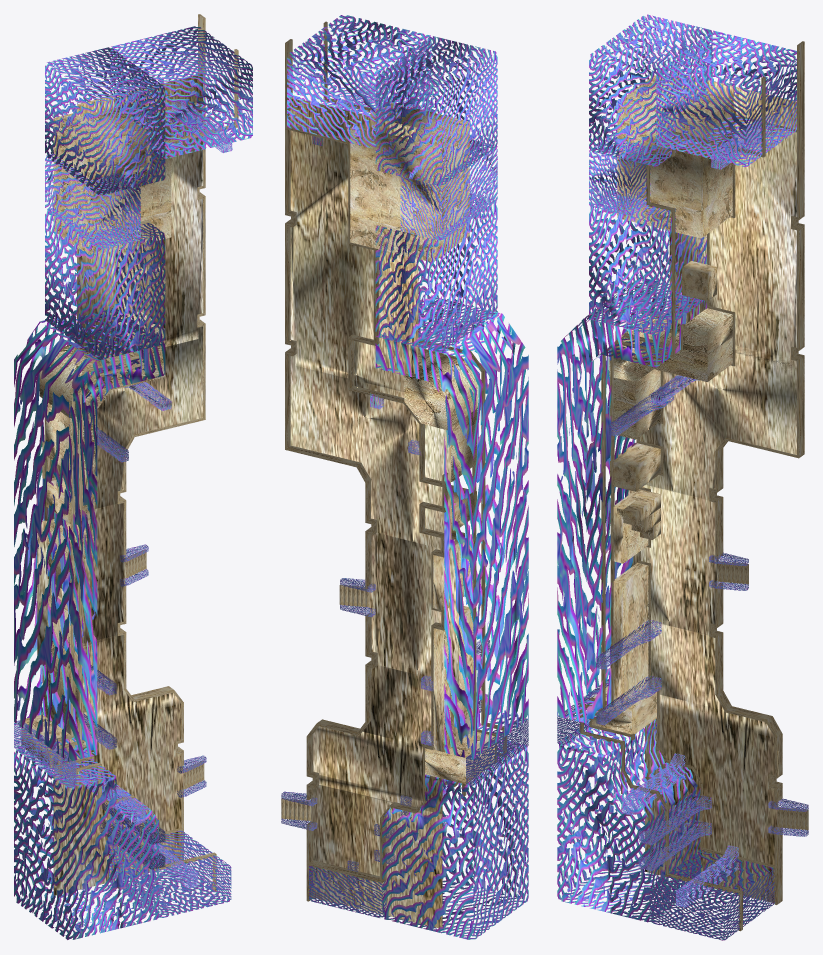
Rendered from Map.obj.
3 views of the same model, side by side, from view 1: azimuth 30°, elevation 25°; view 2: azimuth 150°, elevation 25°; view 3: azimuth 330°, elevation 25° (orthographic). The views are drawn at different scales.
Parts seen in each view (by area): view 1: Rectangle11, Box06, Rectangle08, Rectangle25, Rectangle33, Line22, Rectangle31, Rectangle30, Line10, Line09, Box05, Rectangle32 (+18 smaller); view 2: Rectangle11, Line22, Rectangle08, Box06, Line10, Rectangle30, Rectangle33, Rectangle25, Rectangle31, Line09, Rectangle32, Line04 (+11 smaller); view 3: Rectangle11, Line22, Rectangle08, Box06, Line10, Rectangle31, Rectangle30, Rectangle33, Rectangle25, Line09, Box05, Line04 (+30 smaller).
Part boxes in pixels (bbox=[...]): Rectangle11: bbox=[14, 308, 165, 761]; Box06: bbox=[14, 746, 158, 939]; Rectangle08: bbox=[53, 692, 183, 895]; Rectangle25: bbox=[45, 209, 165, 359]; Rectangle33: bbox=[45, 47, 165, 195]; Line22: bbox=[77, 74, 202, 346]; Rectangle31: bbox=[110, 26, 252, 158]; Rectangle30: bbox=[53, 102, 171, 255]; Line10: bbox=[44, 326, 202, 520]; Line09: bbox=[37, 503, 125, 655]; Box05: bbox=[109, 830, 231, 917]; Rectangle32: bbox=[45, 154, 140, 249]; Rectangle11: bbox=[375, 296, 528, 759]; Line22: bbox=[290, 97, 418, 391]; Rectangle08: bbox=[311, 726, 442, 928]; Box06: bbox=[382, 738, 528, 939]; Line10: bbox=[290, 355, 451, 550]; Rectangle30: bbox=[350, 102, 469, 261]; Rectangle33: bbox=[375, 36, 497, 185]; Rectangle25: bbox=[375, 194, 497, 352]; Rectangle31: bbox=[287, 15, 431, 148]; Line09: bbox=[369, 532, 458, 685]; Rectangle32: bbox=[400, 140, 497, 240]; Line04: bbox=[363, 665, 431, 746]; Rectangle11: bbox=[557, 277, 706, 723]; Line22: bbox=[669, 72, 796, 371]; Rectangle08: bbox=[645, 694, 778, 902]; Box06: bbox=[557, 719, 700, 922]; Line10: bbox=[636, 345, 796, 500]; Rectangle31: bbox=[656, 30, 796, 166]; Rectangle30: bbox=[617, 75, 733, 238]; Rectangle33: bbox=[589, 14, 712, 166]; Rectangle25: bbox=[589, 186, 706, 335]; Line09: bbox=[628, 485, 718, 635]; Box05: bbox=[649, 850, 774, 940]; Line04: bbox=[651, 621, 723, 710].
Bounding box in the file's own units: 1536 × 6521 × 799.
